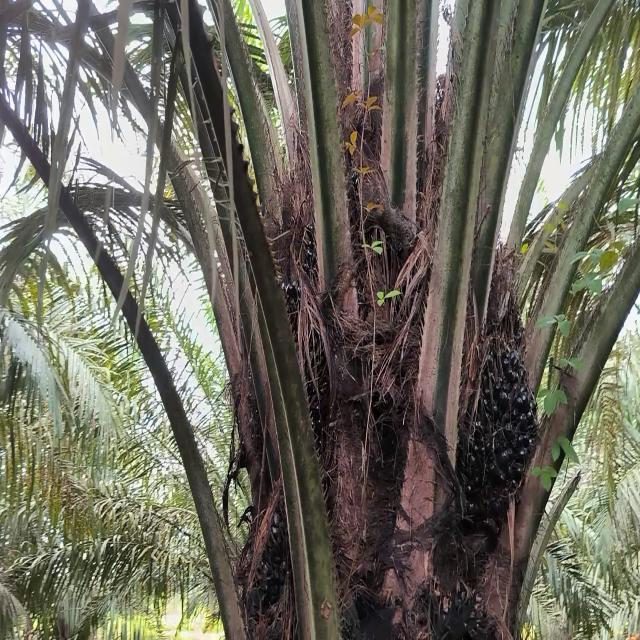palm-oil: (459, 331, 543, 589), (256, 277, 333, 522)
